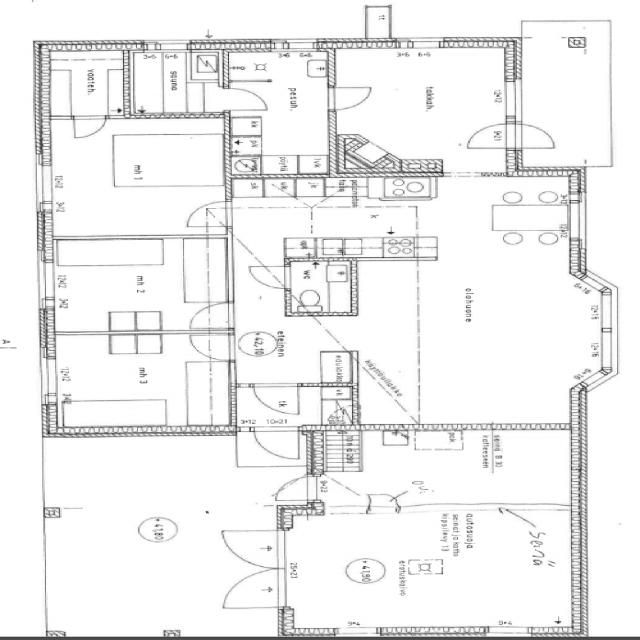door: (226, 53, 335, 174), (217, 535, 287, 612), (216, 529, 286, 572), (247, 425, 303, 463), (247, 382, 303, 417), (179, 199, 231, 230), (184, 332, 236, 362), (183, 300, 235, 330), (219, 84, 272, 113), (461, 121, 512, 151), (324, 83, 376, 112), (511, 121, 560, 151), (269, 474, 317, 504), (248, 262, 290, 290), (69, 114, 108, 140)
window: (30, 246, 60, 313), (30, 158, 60, 213), (34, 351, 64, 404), (590, 289, 619, 336), (564, 195, 590, 246), (592, 327, 620, 374), (502, 74, 525, 124), (221, 239, 239, 298), (268, 38, 323, 52), (142, 39, 195, 53), (398, 37, 447, 48)
zone: (285, 509, 572, 635), (39, 118, 225, 238), (332, 46, 513, 156), (49, 332, 232, 430), (44, 238, 230, 332), (225, 51, 332, 176), (233, 205, 424, 258), (125, 48, 222, 118), (41, 51, 130, 118), (285, 259, 353, 316), (365, 6, 391, 40)
